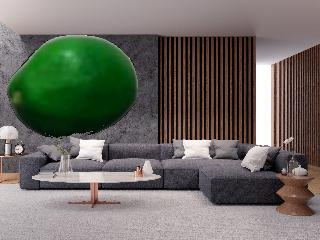lime: (8, 35, 139, 139)
